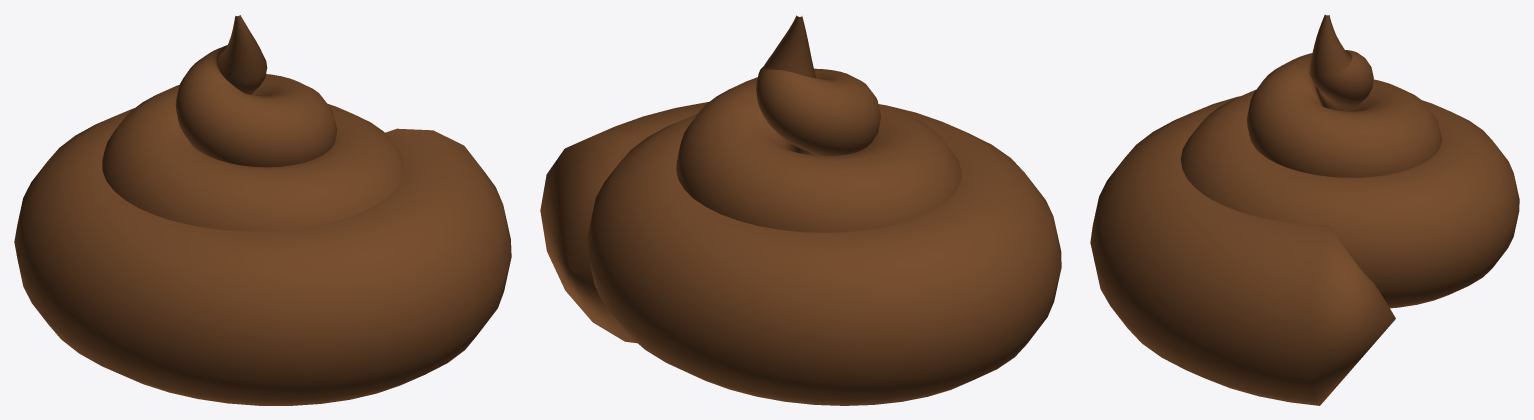
The model's file is J001_rubber_poop.glb.
3 renders of one model, left to right at view 1: azimuth 30°, elevation 25°; view 2: azimuth 150°, elevation 25°; view 3: azimuth 270°, elevation 25°, orthographic. The views are drawn at different scales.
Visible parts, largest first — view 1: swirl; view 2: swirl; view 3: swirl.
Part boxes in pixels (x1,y1,x2,y2): swirl: (14,15,511,405); swirl: (540,15,1061,405); swirl: (1090,15,1519,405).
Bounding box in the file's own units: 0.8393 × 0.6056 × 0.7568.
